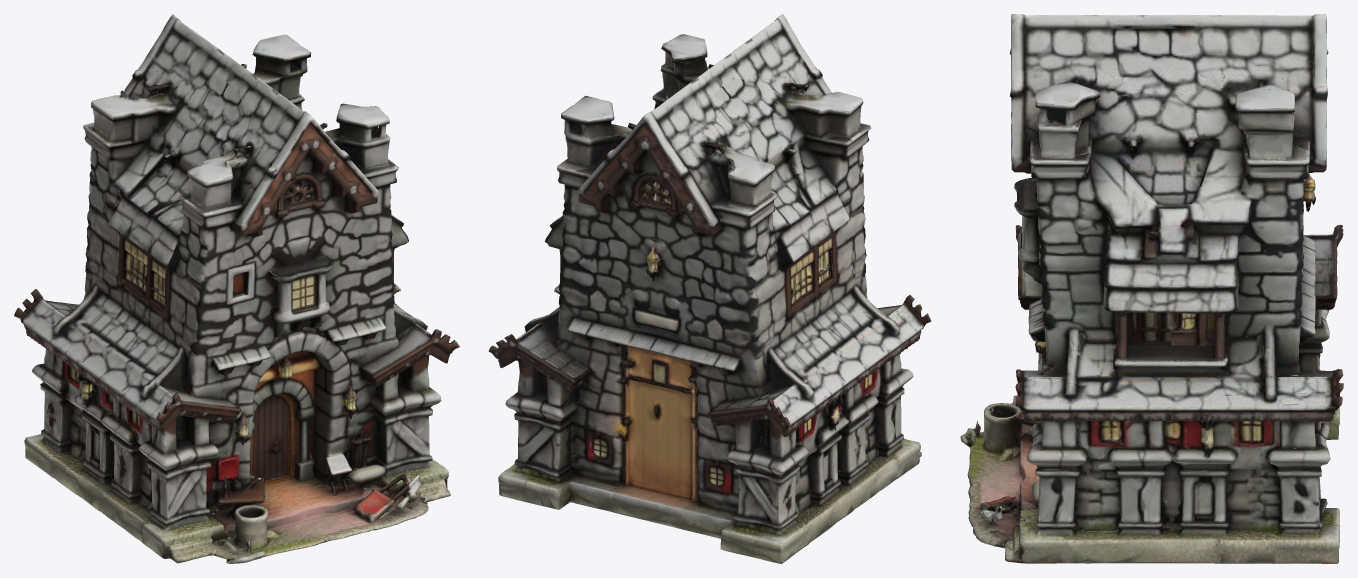
Rendered from Dwarven Building #23_final.glb.
The picture shows the model from 3 angles, left to right: view 1: azimuth 30°, elevation 25°; view 2: azimuth 150°, elevation 25°; view 3: azimuth 270°, elevation 25°; orthographic projection. The views are drawn at different scales.
Size of the model in its own units: 1.47 by 1.91 by 1.41.
Materials: 1 (1 with a texture image).
